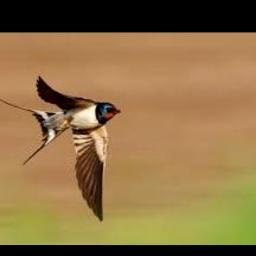Swallow: (0, 76, 122, 222)
